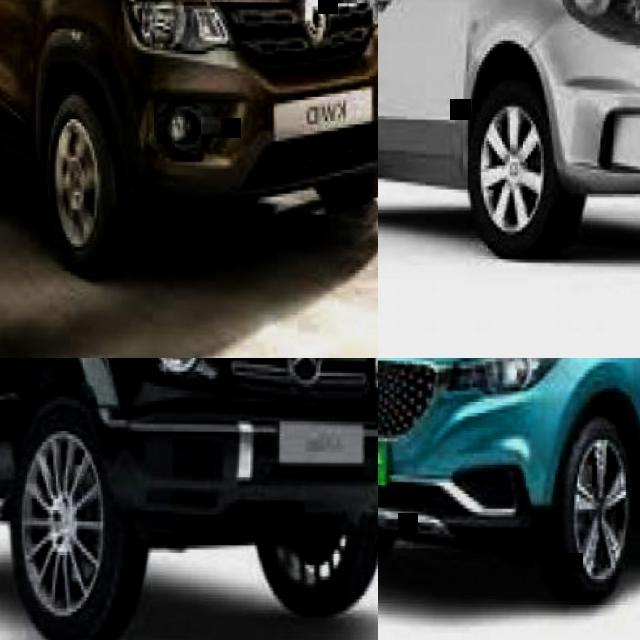car: (1, 0, 379, 285), (0, 360, 373, 640), (373, 358, 638, 602), (458, 0, 640, 261)
